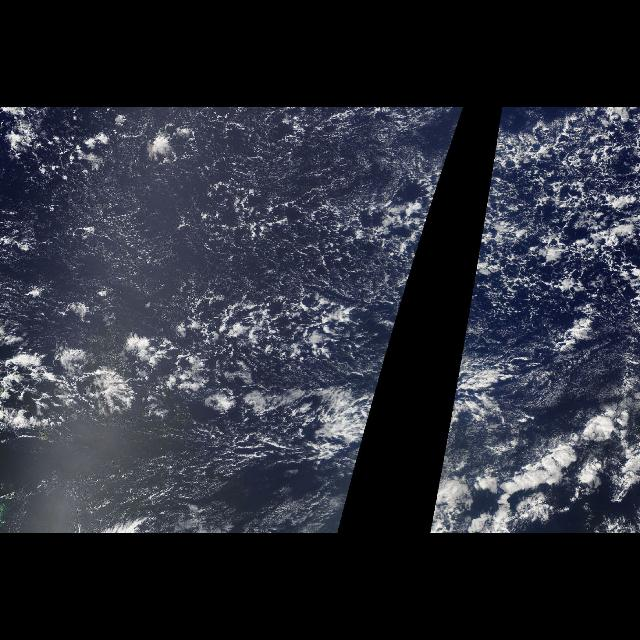Gravel: (5, 114, 461, 426), (448, 114, 640, 426)
Sugar: (65, 422, 298, 520)
